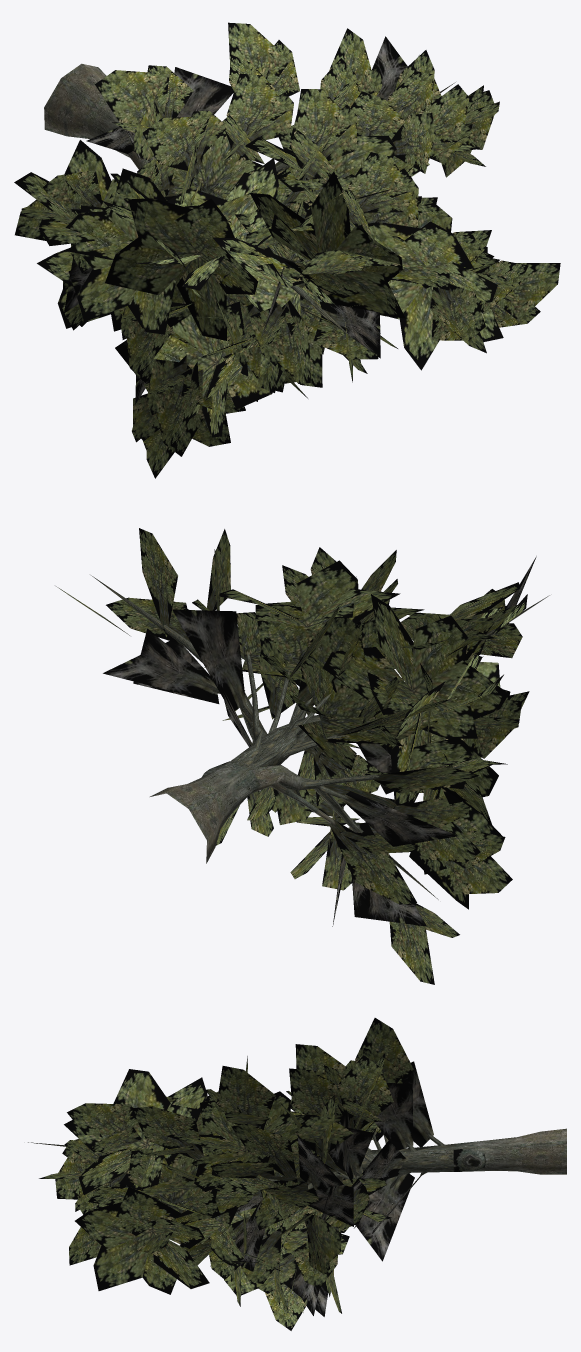
File: tree_grey_oak_xl_a.glb
3 views of the same model, one above another, from view 1: azimuth 30°, elevation 25°; view 2: azimuth 150°, elevation 25°; view 3: azimuth 270°, elevation 25° (orthographic). The views are drawn at different scales.
Size of the model in its own units: 356 by 292 by 433.
Materials: 2 (2 with a texture image).
